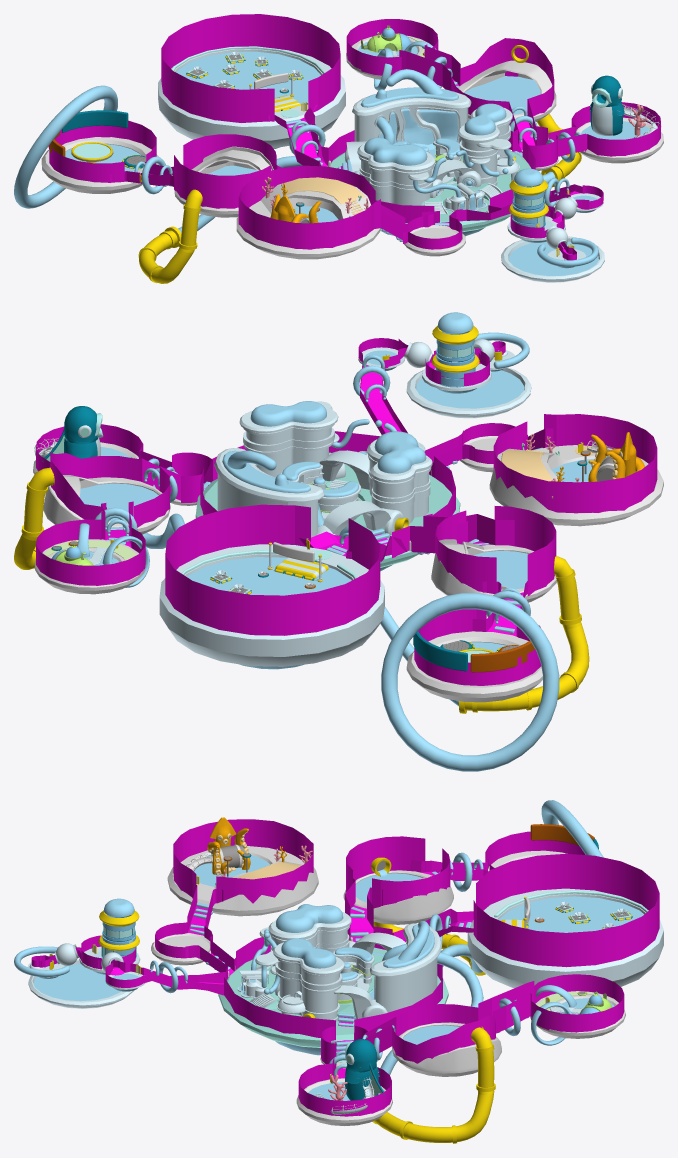
File: Wonderblue Completed Map.fbx
3 views of the same model, one above another, from view 1: azimuth 30°, elevation 25°; view 2: azimuth 150°, elevation 25°; view 3: azimuth 270°, elevation 25° (orthographic). The views are drawn at different scales.
Parts seen in each view (by area): view 1: pCylinder159, pCylinder163, Platform_Body, pCylinder161, Big_Building_L, Backside8, Water, Platform_Kraken_Body, pCylinder160, Water_Ring, pCylinder157, polySurface16 (+48 smaller); view 2: pCylinder159, Platform_Body, Water_Ring, pCylinder163, pCylinder161, Big_Building_R, Big_Building_L, pCylinder157, polySurface16, Backside8, pCylinder155, Platform_Gladiator_Body (+36 smaller); view 3: pCylinder159, pCylinder163, Platform_Body, pCylinder161, Big_Building_R, Backside8, pCylinder157, pCylinder154, Platform_Kraken_Body, Tube1, pCylinder155, Water (+44 smaller).
Part boxes in pixels (left/top/right/bottom): pCylinder159: left=161, top=14, right=340, bottom=122; pCylinder163: left=238, top=165, right=380, bottom=249; Platform_Body: left=158, top=49, right=345, bottom=148; pCylinder161: left=174, top=134, right=276, bottom=208; Big_Building_L: left=357, top=137, right=435, bottom=205; Backside8: left=352, top=87, right=471, bottom=142; Water: left=176, top=51, right=320, bottom=104; Platform_Kraken_Body: left=236, top=181, right=380, bottom=259; pCylinder160: left=49, top=120, right=156, bottom=182; Water_Ring: left=14, top=85, right=117, bottom=208; pCylinder157: left=451, top=38, right=554, bottom=116; polySurface16: left=138, top=189, right=202, bottom=283; pCylinder159: left=165, top=504, right=380, bottom=635; Platform_Body: left=159, top=544, right=384, bottom=666; Water_Ring: left=381, top=593, right=559, bottom=771; pCylinder163: left=493, top=414, right=657, bottom=513; pCylinder161: left=435, top=506, right=556, bottom=595; Big_Building_R: left=239, top=401, right=338, bottom=477; Big_Building_L: left=367, top=431, right=432, bottom=524; pCylinder157: left=50, top=452, right=169, bottom=527; polySurface16: left=459, top=556, right=589, bottom=713; Backside8: left=214, top=448, right=324, bottom=537; pCylinder155: left=36, top=519, right=145, bottom=585; Platform_Gladiator_Body: left=406, top=631, right=542, bottom=702; pCylinder159: left=473, top=853, right=659, bottom=967; pCylinder163: left=173, top=819, right=313, bottom=903; Platform_Body: left=467, top=888, right=663, bottom=988; pCylinder161: left=346, top=836, right=450, bottom=908; Big_Building_R: left=273, top=938, right=344, bottom=1021; Backside8: left=370, top=923, right=441, bottom=1012; pCylinder157: left=392, top=1004, right=495, bottom=1063; pCylinder154: left=224, top=937, right=442, bottom=1039; Platform_Kraken_Body: left=167, top=846, right=318, bottom=916; Tube1: left=372, top=1026, right=495, bottom=1143; pCylinder155: left=531, top=974, right=624, bottom=1032; Water: left=499, top=896, right=643, bottom=932.
Bounding box in the file's own units: 732 × 207 × 739.
